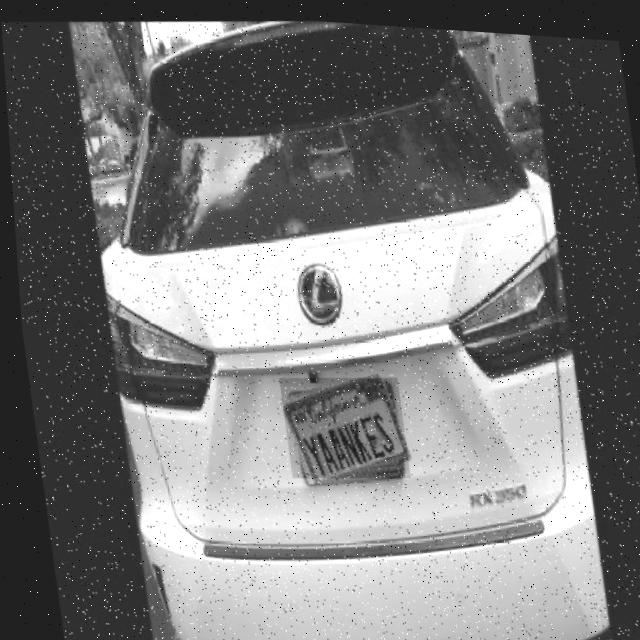LicensePlate: (273, 366, 405, 481)
